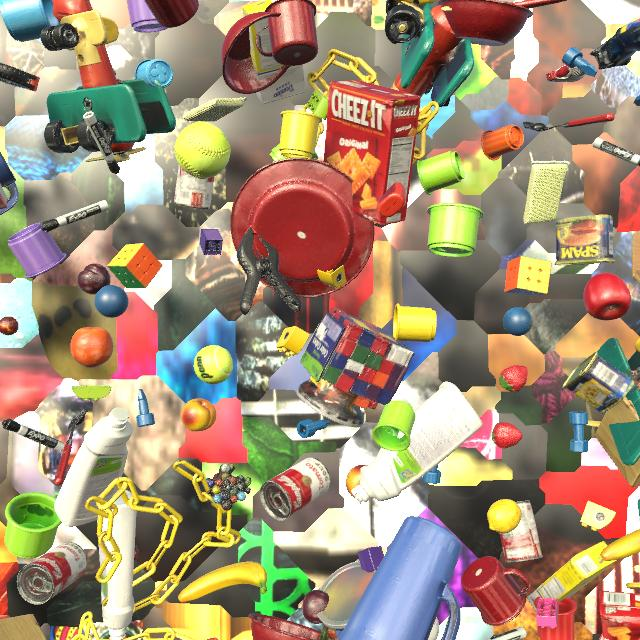ycb_003_cracker_box: (324, 80, 421, 225), (599, 591, 640, 640)
ycb_004_sugar_box: (242, 0, 306, 104), (527, 541, 617, 613)
ycb_005_tomato_soup_can: (260, 457, 331, 521), (17, 542, 87, 605), (500, 500, 543, 562), (174, 165, 214, 210)
ycb_006_mustard_bottle: (396, 0, 435, 6)
ycb_009_gelatin_box: (0, 184, 8, 209), (599, 633, 608, 640)
ycb_010_potted_meat_can: (563, 352, 635, 414), (555, 214, 615, 266)
ycb_011_banana: (178, 562, 267, 603), (600, 529, 640, 561)
ycb_012_strawberry: (492, 422, 523, 448), (499, 365, 528, 392)
ycb_013_apple: (583, 273, 632, 320)
ycb_014_lemon: (487, 499, 522, 533)
ycb_015_peach: (181, 398, 216, 432), (346, 464, 367, 499)
ycb_017_orange: (70, 327, 113, 368)
ycb_018_plum: (77, 263, 111, 295), (302, 590, 329, 624)
